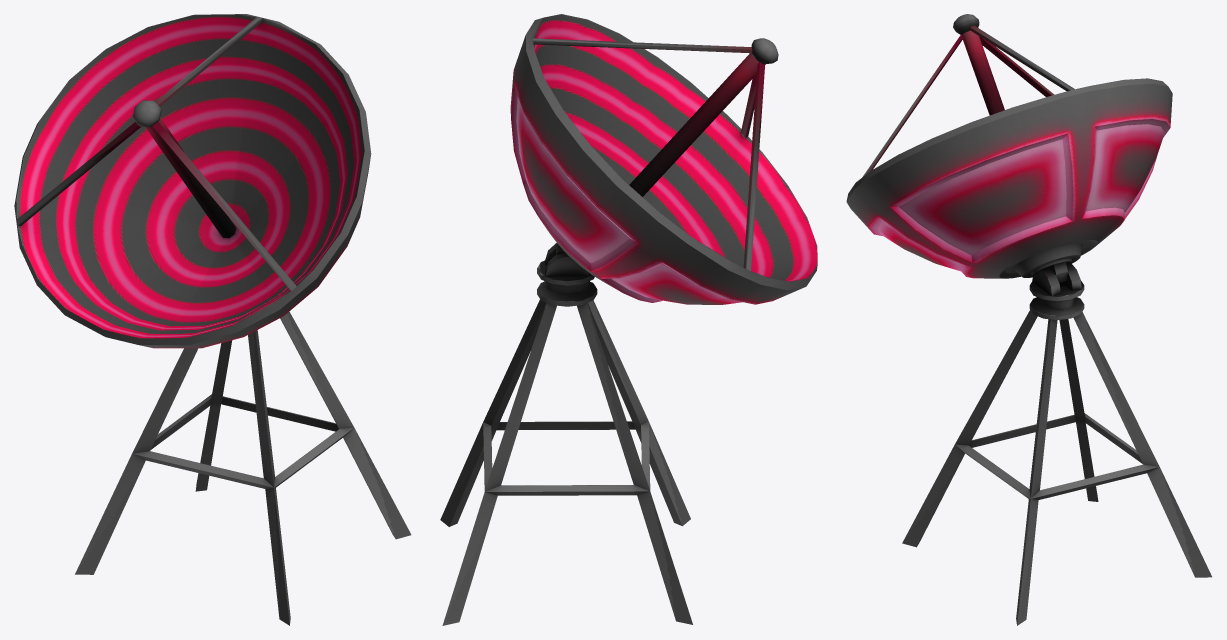
File: SpaceTec02.FBX
3 renders of one model, left to right at view 1: azimuth 30°, elevation 25°; view 2: azimuth 150°, elevation 25°; view 3: azimuth 270°, elevation 25°, orthographic. The views are drawn at different scales.
Visible parts, largest first — view 1: SpaceTec02; view 2: SpaceTec02; view 3: SpaceTec02.
Boxes of the visible parts, x1,y1,x2,y2 form: SpaceTec02: [14, 14, 411, 625]; SpaceTec02: [440, 14, 817, 625]; SpaceTec02: [846, 14, 1211, 625].
Bounding box in the file's own units: 21.65 × 30.24 × 20.83.
